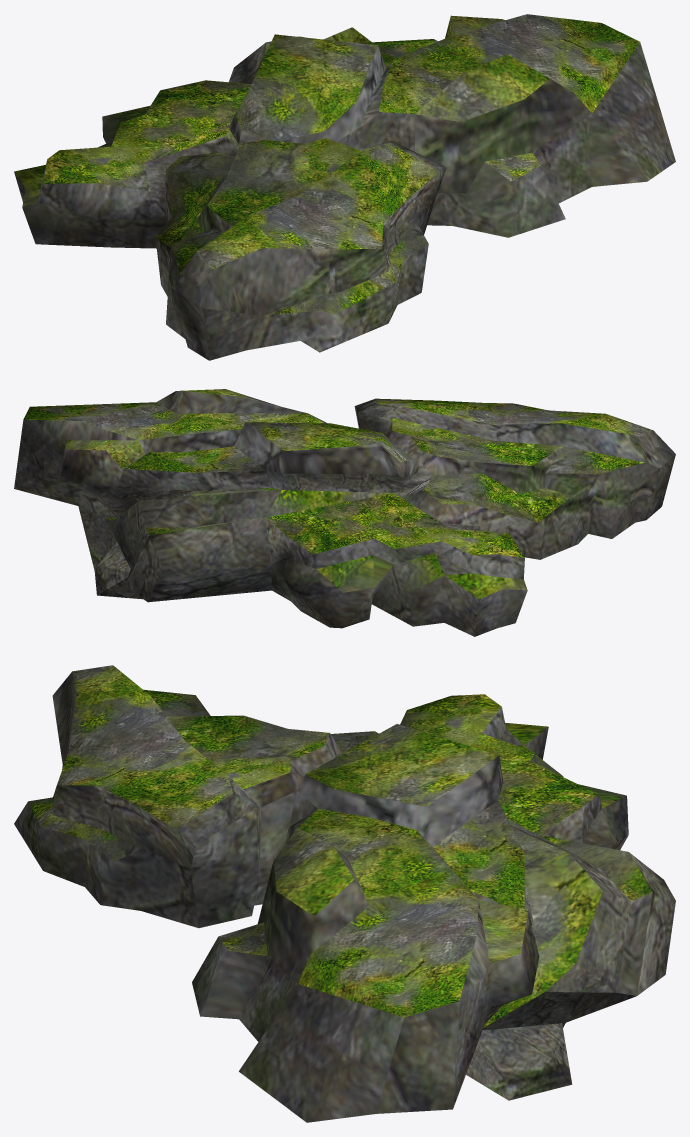
The model's file is S_Rock_Green007.FBX.
3 renders of one model, top to bottom at view 1: azimuth 30°, elevation 25°; view 2: azimuth 150°, elevation 25°; view 3: azimuth 270°, elevation 25°, orthographic. The views are drawn at different scales.
Visible parts, largest first — view 1: S_Rock_Green007; view 2: S_Rock_Green007; view 3: S_Rock_Green007.
Part boxes in pixels (box(x1,y1,x2,y2)): S_Rock_Green007: box(14, 14, 675, 360); S_Rock_Green007: box(14, 389, 675, 636); S_Rock_Green007: box(14, 665, 675, 1122).
Size of the model in its own units: 1001 by 795 by 297.
